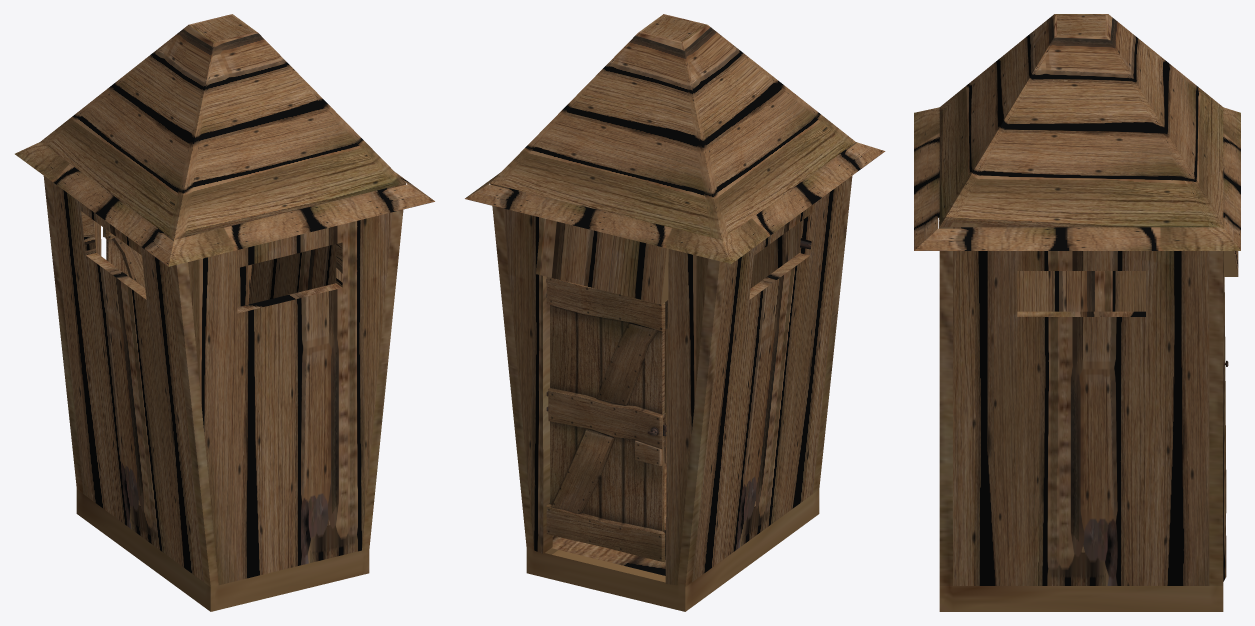
Rendered from latrineChestClosed.obj.
3 renders of one model, left to right at view 1: azimuth 30°, elevation 25°; view 2: azimuth 150°, elevation 25°; view 3: azimuth 270°, elevation 25°, orthographic. The views are drawn at different scales.
Visible parts, largest first — view 1: Cube.002, Wooden_Door_Mesh.001; view 2: Cube.002, Wooden_Door_Mesh.001; view 3: Cube.002.
Boxes of the visible parts, <box> form: Cube.002: <box>15,14,434,611</box>; Wooden_Door_Mesh.001: <box>103,227,145,287</box>; Cube.002: <box>465,14,885,611</box>; Wooden_Door_Mesh.001: <box>546,277,667,562</box>; Cube.002: <box>914,14,1240,611</box>.
Size of the model in its own units: 53.41 by 98.39 by 53.41.
